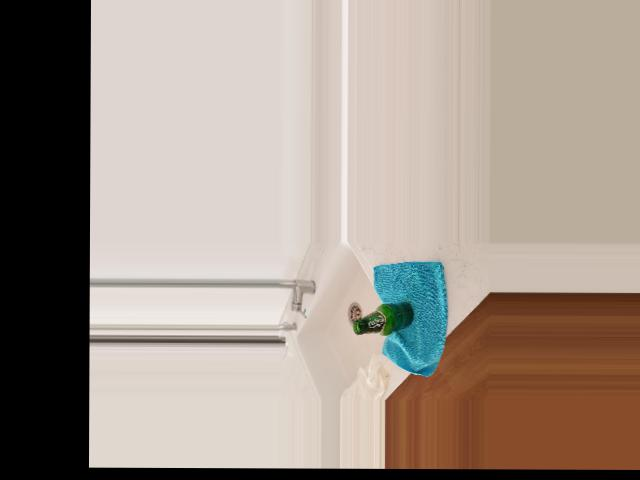beer: (354, 302, 414, 336)
